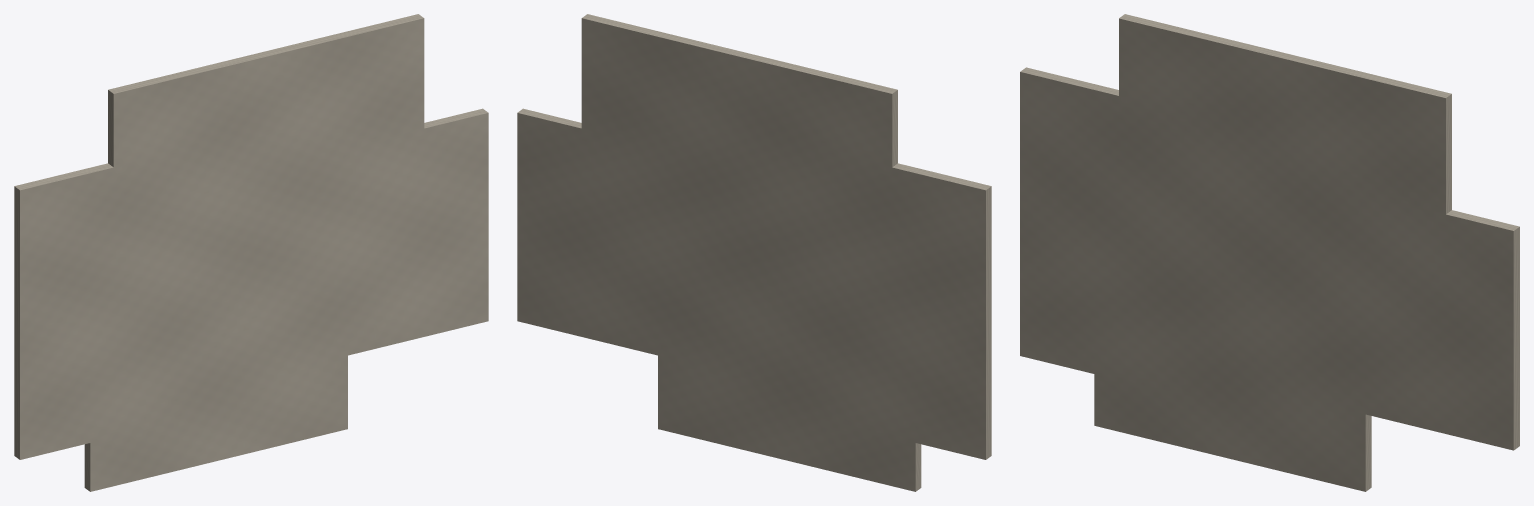
Rendered from D_PlasterPatch_Broad_visual.glb.
The picture shows the model from 3 angles, left to right: view 1: azimuth 30°, elevation 25°; view 2: azimuth 150°, elevation 25°; view 3: azimuth 330°, elevation 25°; orthographic projection. The views are drawn at different scales.
Parts seen in each view (by area): view 1: D_PlasterPatch_Broad__VIS; view 2: D_PlasterPatch_Broad__VIS; view 3: D_PlasterPatch_Broad__VIS.
Boxes of the visible parts, left/top/right/bottom form: D_PlasterPatch_Broad__VIS: left=14, top=14, right=488, bottom=491; D_PlasterPatch_Broad__VIS: left=517, top=14, right=991, bottom=491; D_PlasterPatch_Broad__VIS: left=1020, top=14, right=1519, bottom=491.
Size of the model in its own units: 4 by 3.2 by 0.085.
Materials: 1 (1 with a texture image).
